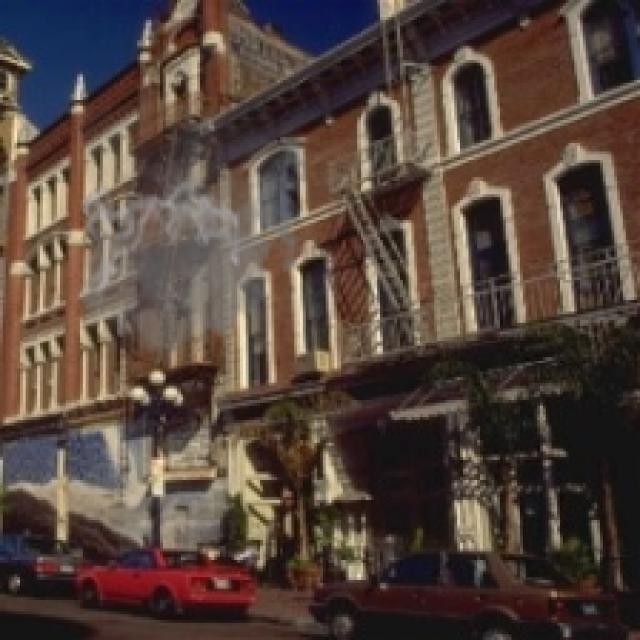Smoke: (74, 106, 314, 377)
